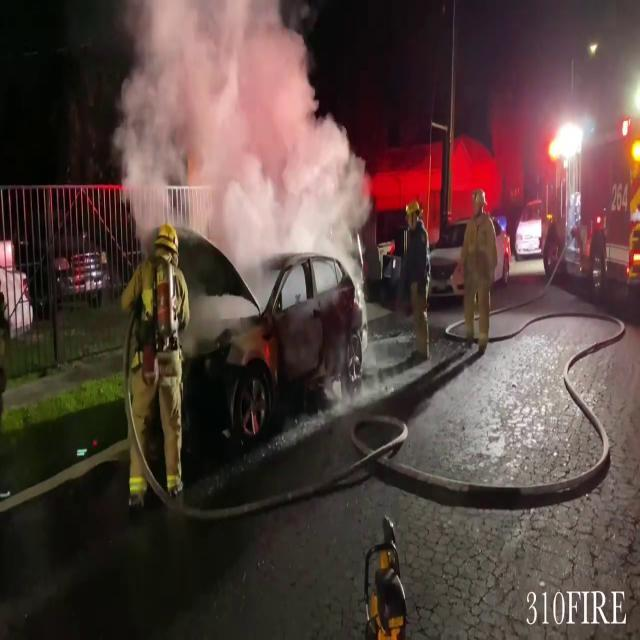Smoke: (106, 0, 368, 274)
